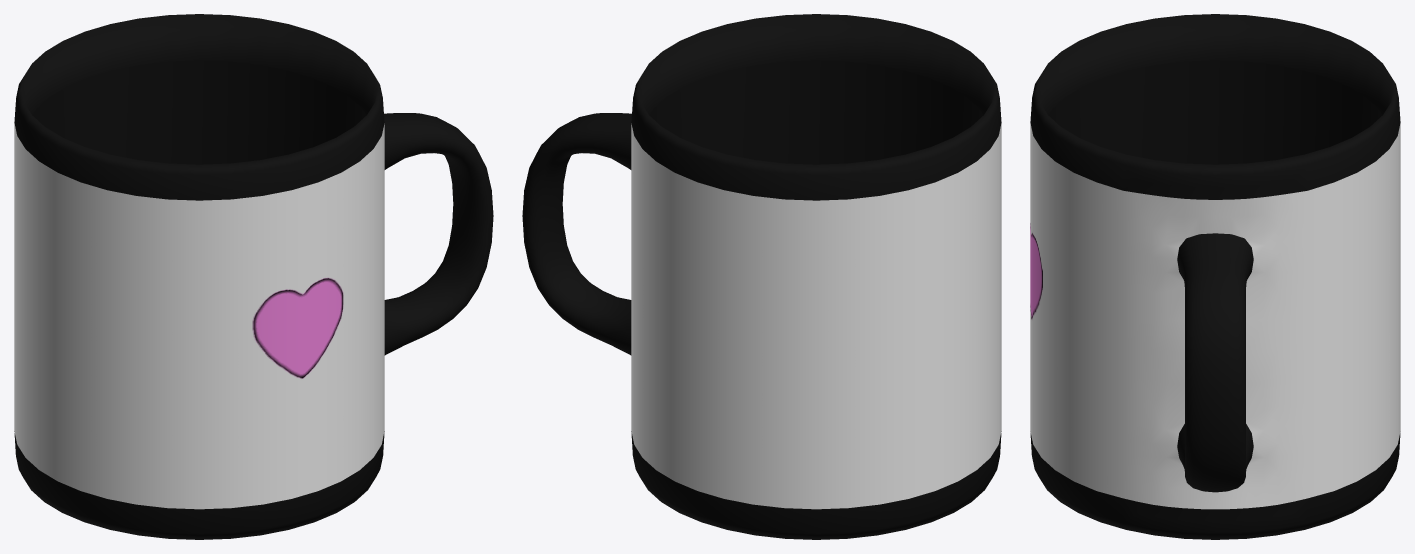
File: mug.glb
3 views of the same model, side by side, from view 1: azimuth 30°, elevation 25°; view 2: azimuth 150°, elevation 25°; view 3: azimuth 270°, elevation 25° (orthographic).
Parts seen in each view (by area): view 1: Object_2; view 2: Object_2; view 3: Object_2.
Part boxes in pixels (bbox=[...]): Object_2: bbox=[14, 14, 493, 539]; Object_2: bbox=[522, 14, 1001, 539]; Object_2: bbox=[1030, 14, 1400, 539].
Size of the model in its own units: 68.21 by 54.76 by 49.
Materials: 1 (1 with a texture image).
